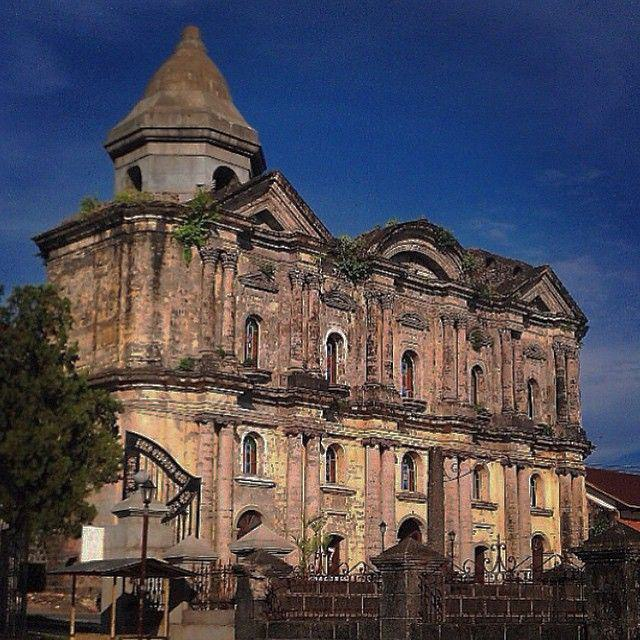taal_basilica_church_taal_batangas: (33, 17, 592, 582)
